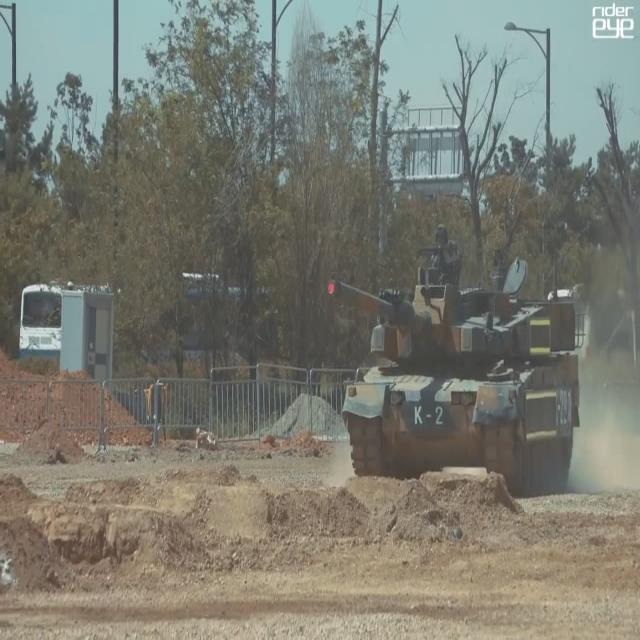korea tank: (325, 219, 589, 495)
